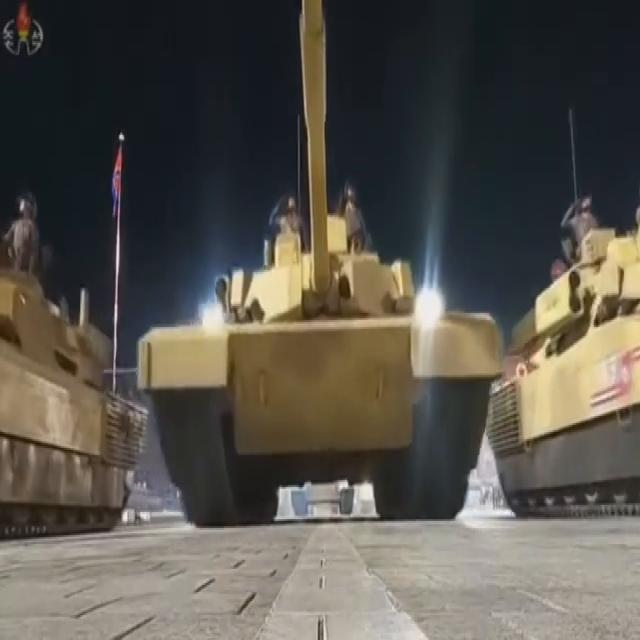north tank: (129, 0, 509, 540), (0, 172, 156, 548), (481, 183, 640, 541)
